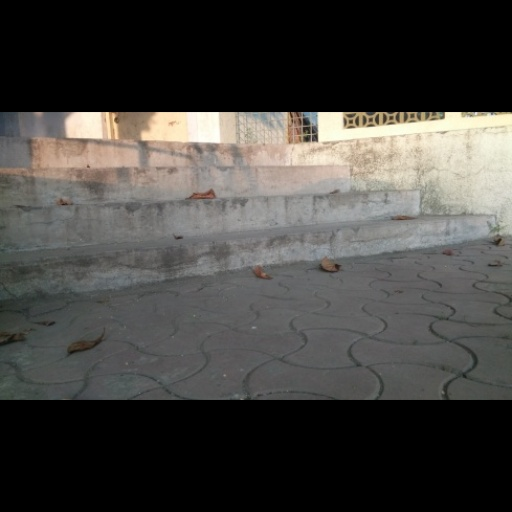Stairs: (0, 132, 512, 298)
